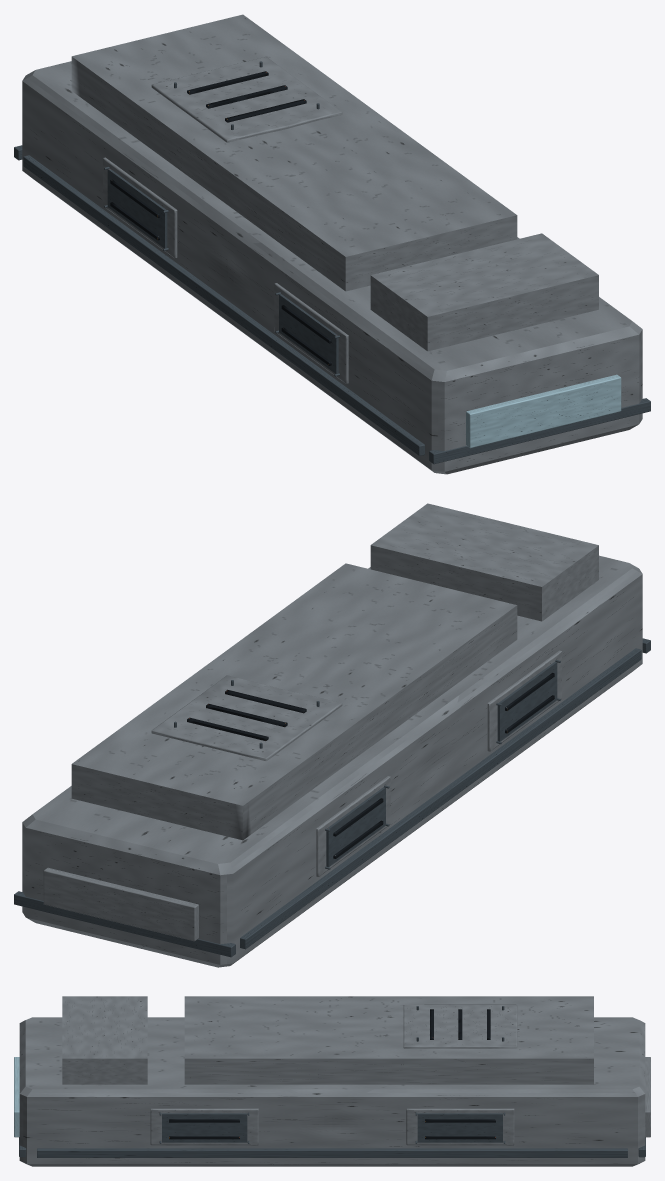
3 views of the same model, one above another, from view 1: azimuth 30°, elevation 25°; view 2: azimuth 150°, elevation 25°; view 3: azimuth 270°, elevation 25° (orthographic). The views are drawn at different scales.
Visible parts, largest first — view 1: PrimaryHullAndArmour, RecessedMachinery, TrimAndFasteners, ServiceAssemblies; view 2: PrimaryHullAndArmour, RecessedMachinery, TrimAndFasteners, ServiceAssemblies; view 3: PrimaryHullAndArmour, RecessedMachinery, TrimAndFasteners, ServiceAssemblies.
Boxes of the visible parts, x1=… form: PrimaryHullAndArmour: x1=22, y1=14, x2=642, y2=474; RecessedMachinery: x1=107, y1=71, x2=621, y2=448; TrimAndFasteners: x1=14, y1=61, x2=650, y2=464; ServiceAssemblies: x1=103, y1=157, x2=348, y2=383; PrimaryHullAndArmour: x1=22, y1=503, x2=642, y2=967; RecessedMachinery: x1=43, y1=661, x2=557, y2=941; TrimAndFasteners: x1=14, y1=638, x2=650, y2=957; ServiceAssemblies: x1=316, y1=650, x2=561, y2=876; PrimaryHullAndArmour: x1=19, y1=996, x2=645, y2=1166; RecessedMachinery: x1=14, y1=1009, x2=650, y2=1142; TrimAndFasteners: x1=19, y1=1006, x2=645, y2=1157; ServiceAssemblies: x1=150, y1=1108, x2=514, y2=1145.
Bounding box in the file's own units: 0.684 × 0.422 × 2.24.
Materials: 1 (1 with a texture image).
